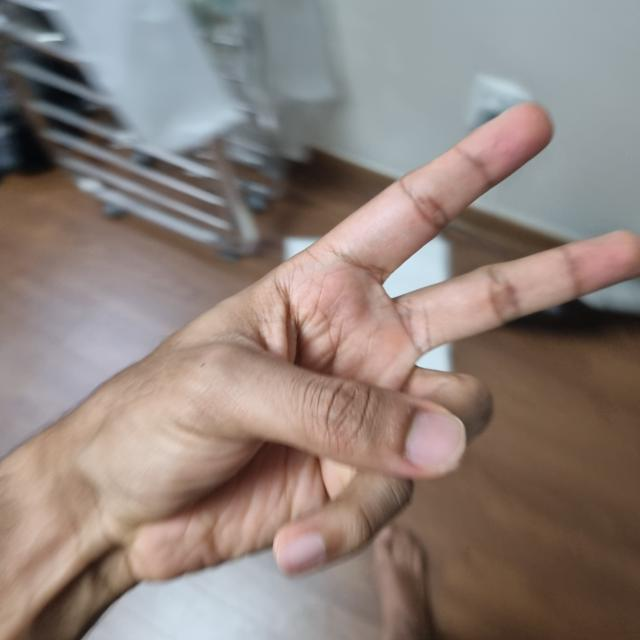Scissors: (60, 108, 638, 572)
